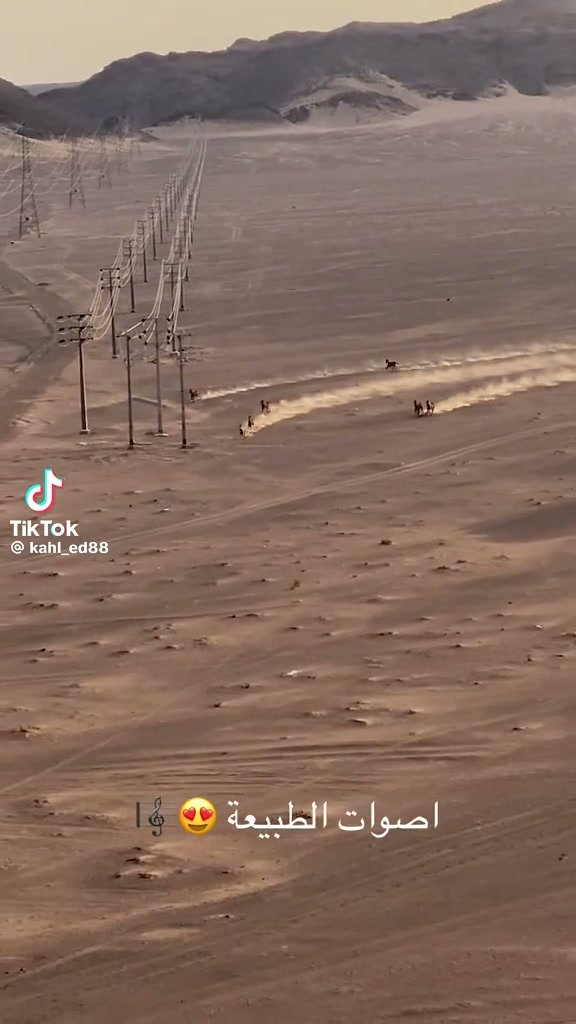animal: (414, 400, 424, 417), (385, 358, 397, 371), (426, 400, 434, 414), (247, 415, 253, 428), (239, 424, 244, 437)
vehicle_track: (109, 420, 575, 543), (118, 426, 541, 541), (0, 708, 157, 795), (122, 483, 333, 540), (2, 911, 148, 990)
